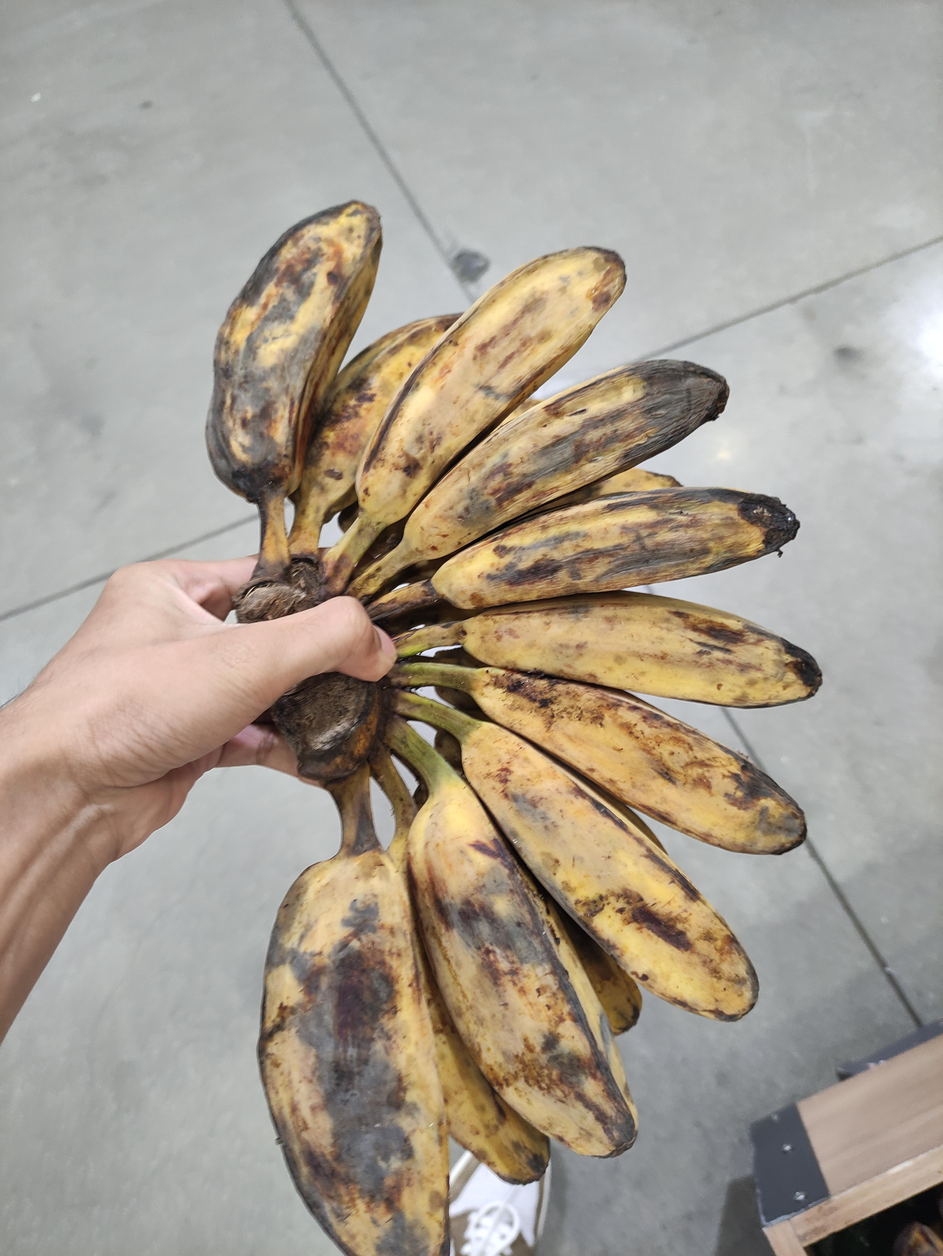ripe: (206, 201, 823, 1256)
